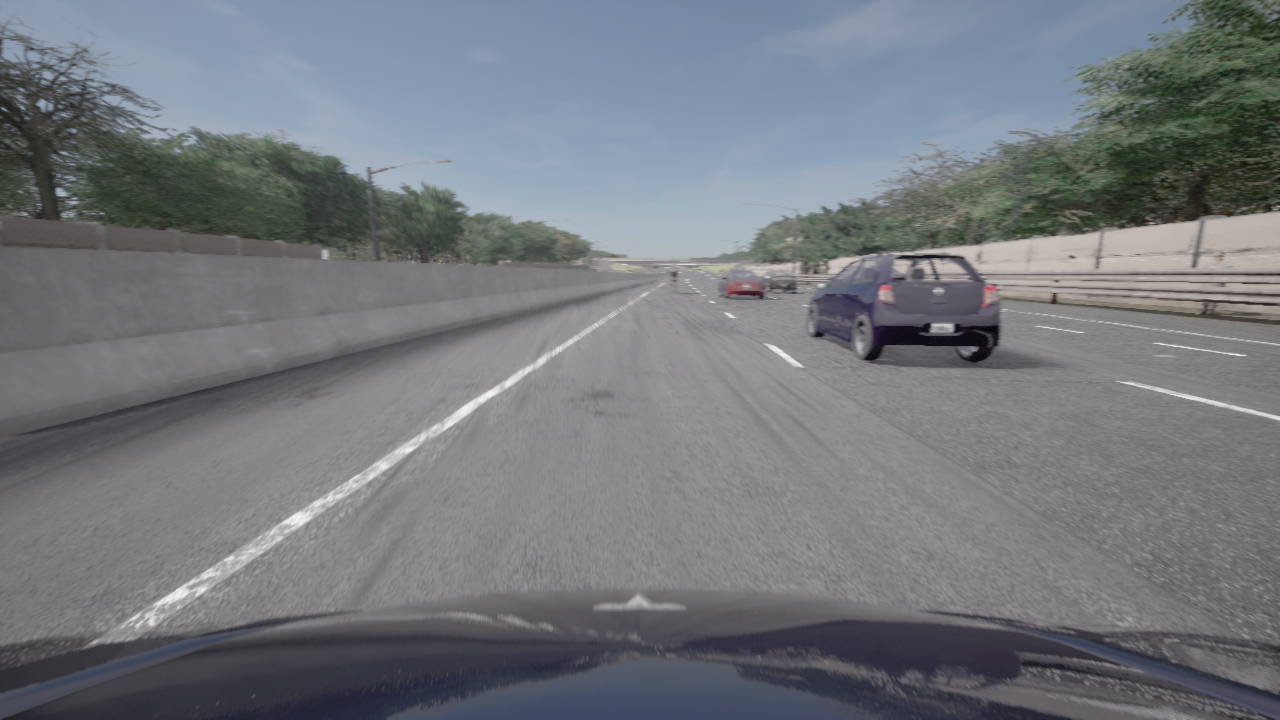cyclist: (0, 588, 1279, 719), (808, 254, 1000, 362), (719, 271, 765, 299), (761, 270, 796, 293), (826, 276, 833, 282), (673, 281, 674, 290)
pedestrian: (1198, 254, 1232, 314)
